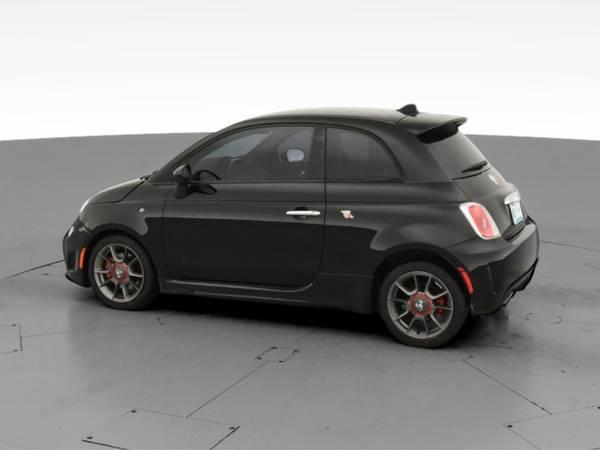Front_Bumper: (60, 220, 88, 289)
Front_Fender: (76, 184, 172, 294)
Front_Left_Door: (164, 183, 326, 306)
Front_Left_Window: (166, 127, 326, 187)
Hood: (83, 178, 142, 204)
Left_Taillight: (459, 203, 502, 241)
Rear_Bumper: (442, 219, 541, 313)
Rear_Fender: (317, 125, 479, 311)
Rear_Windshield: (421, 129, 493, 182)
Roof: (150, 111, 462, 184)
Tailgate: (454, 168, 528, 238)
Wheel: (379, 259, 464, 347), (88, 234, 151, 305)
